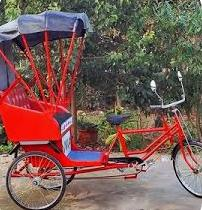Rickshaw: (0, 11, 201, 209)
